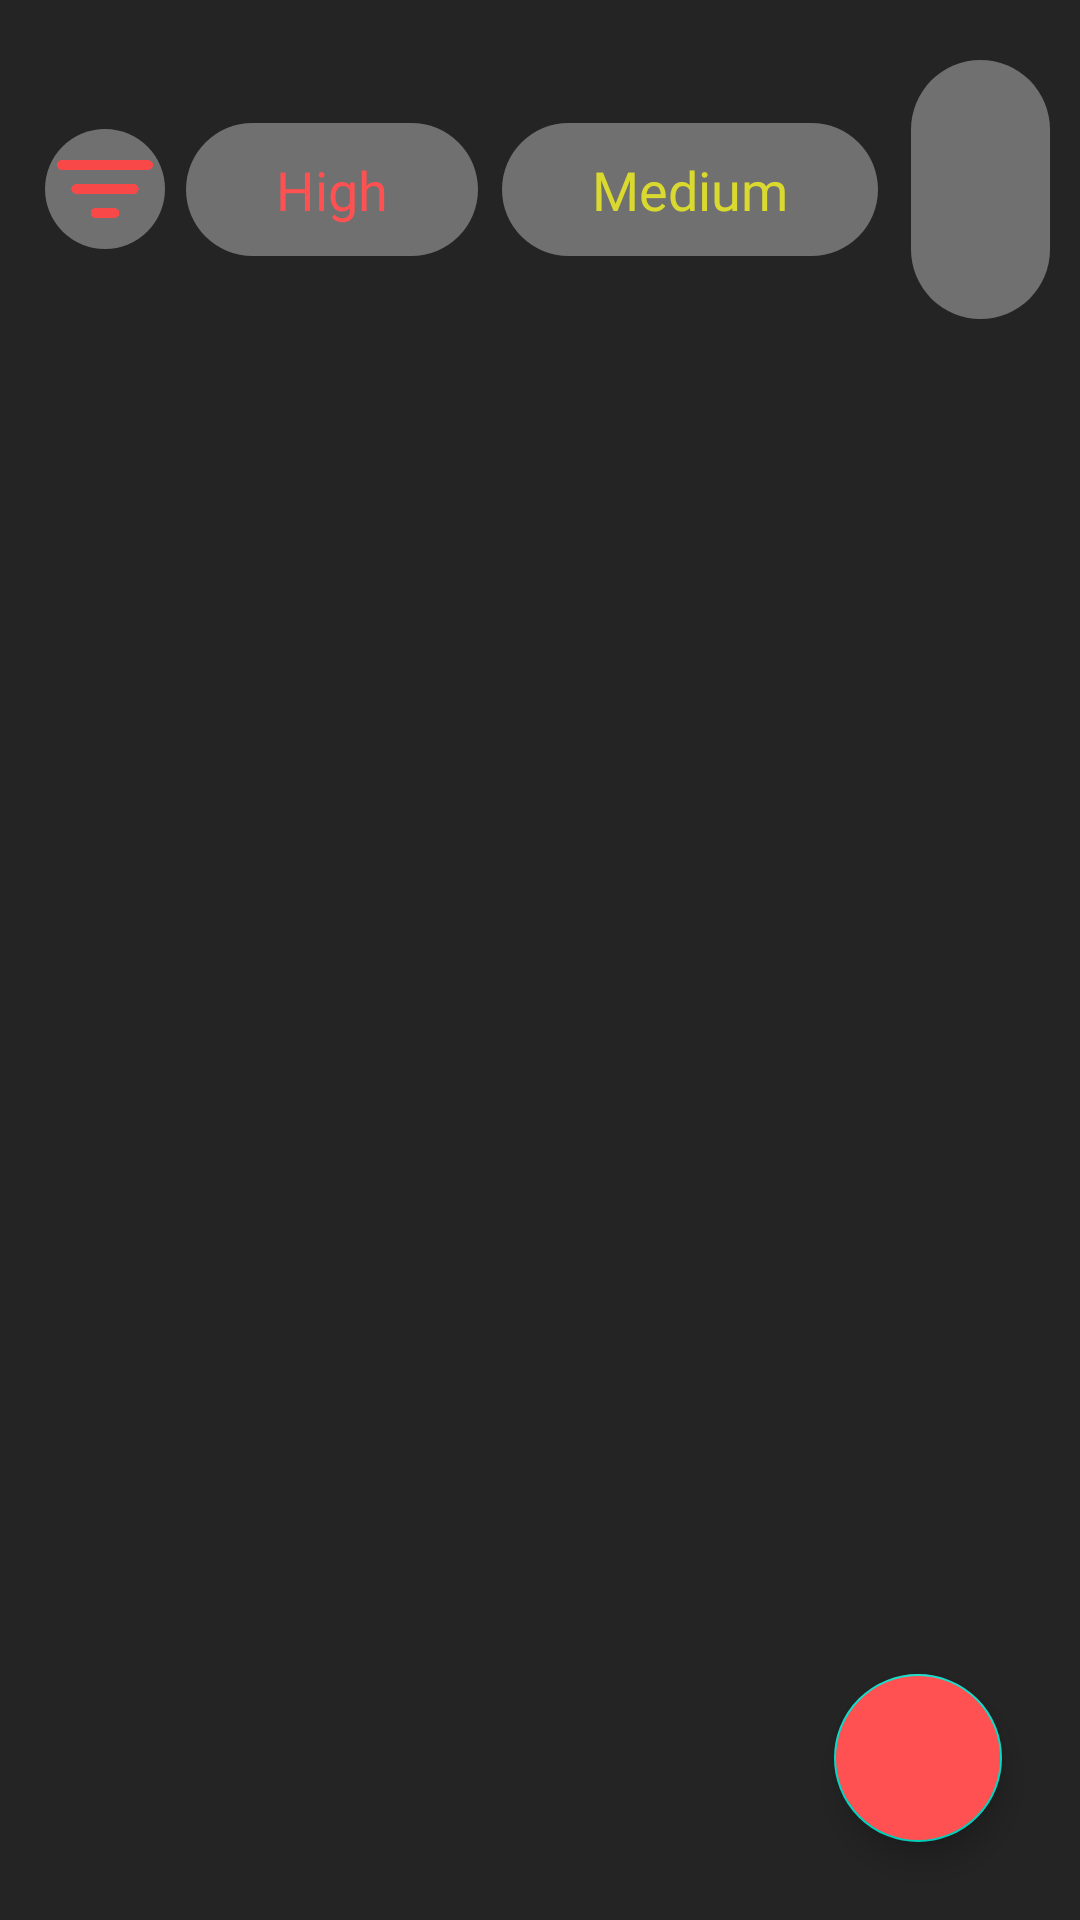

Icons on this 1080x1920 Android screen, each with the point to tap as (x=x, y=y):
filterred: (x=105, y=189)
